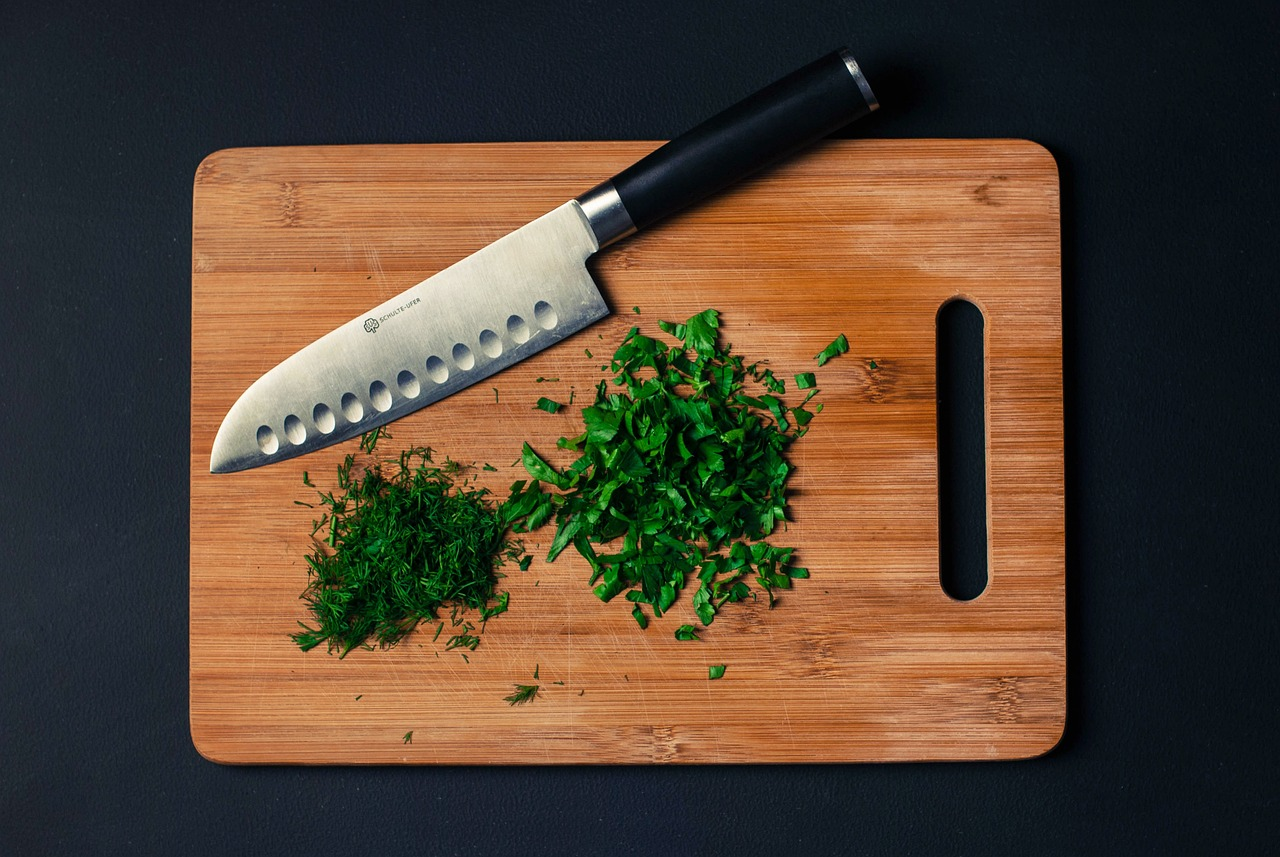knife: (202, 45, 884, 482)
